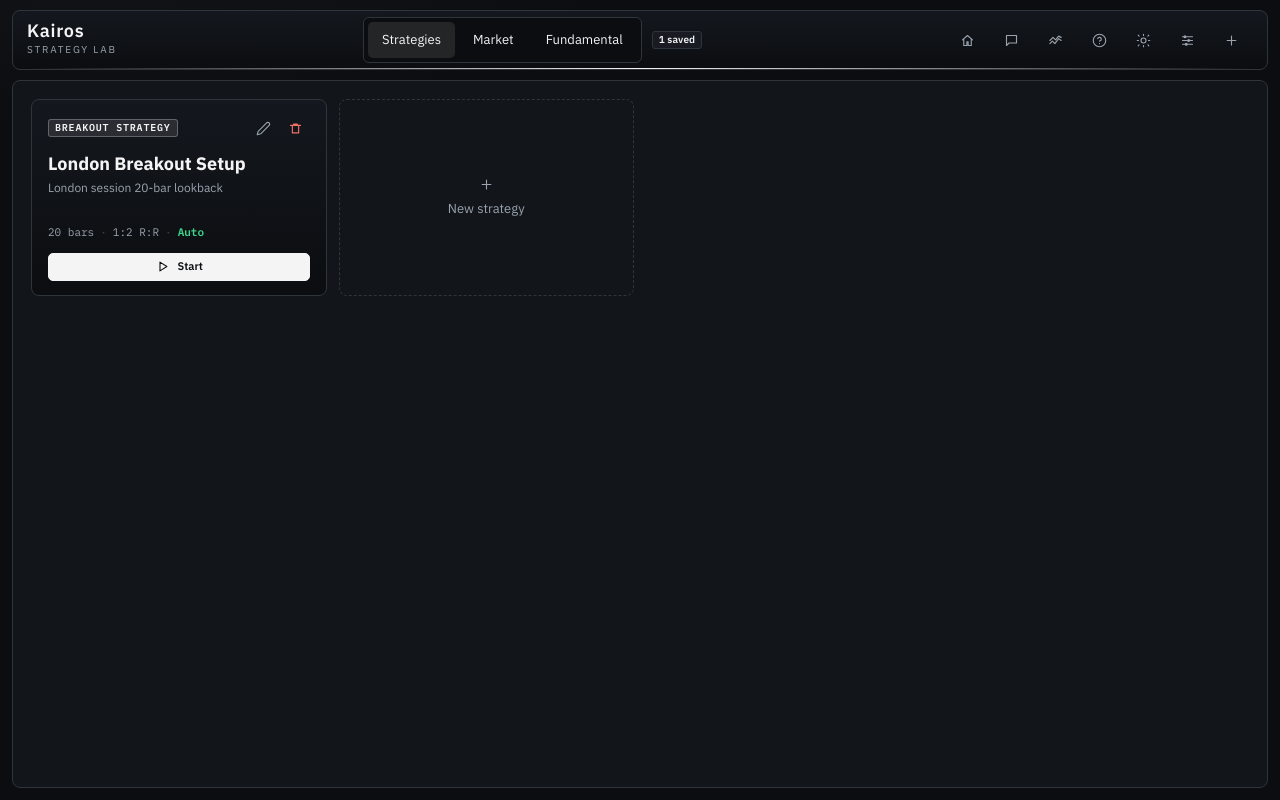
it: Empirical Challenger M4: Panels, Desks, Buttons & Forms Stress Suite › StrategyLibrary: Card Actions, Composer, Delete Confirmation & Search › handles delete strategy card action with confirmation dialog and cancel/confirm branches
Later steps or results of the test are not shown.
// Click Delete IconButton
Click the button named "delete london breakout setup": (296, 128) [282, 114, 310, 142]
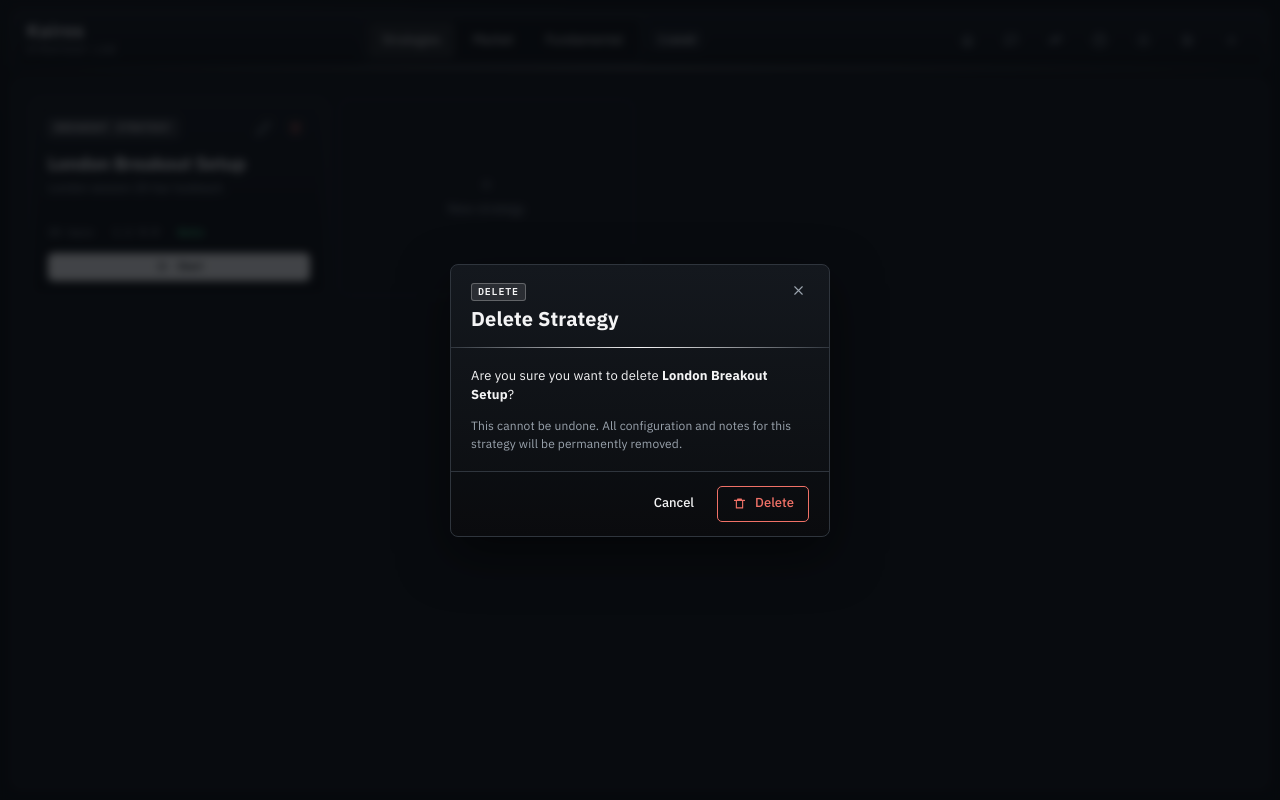
Expected: the heading "Delete Strategy" is shown, [471, 304, 619, 332]
Expected: the text "Are you sure you want to delete London Breakout Setup?" is shown, [471, 366, 809, 404]
Click the button "Cancel": (674, 504) [639, 486, 709, 522]
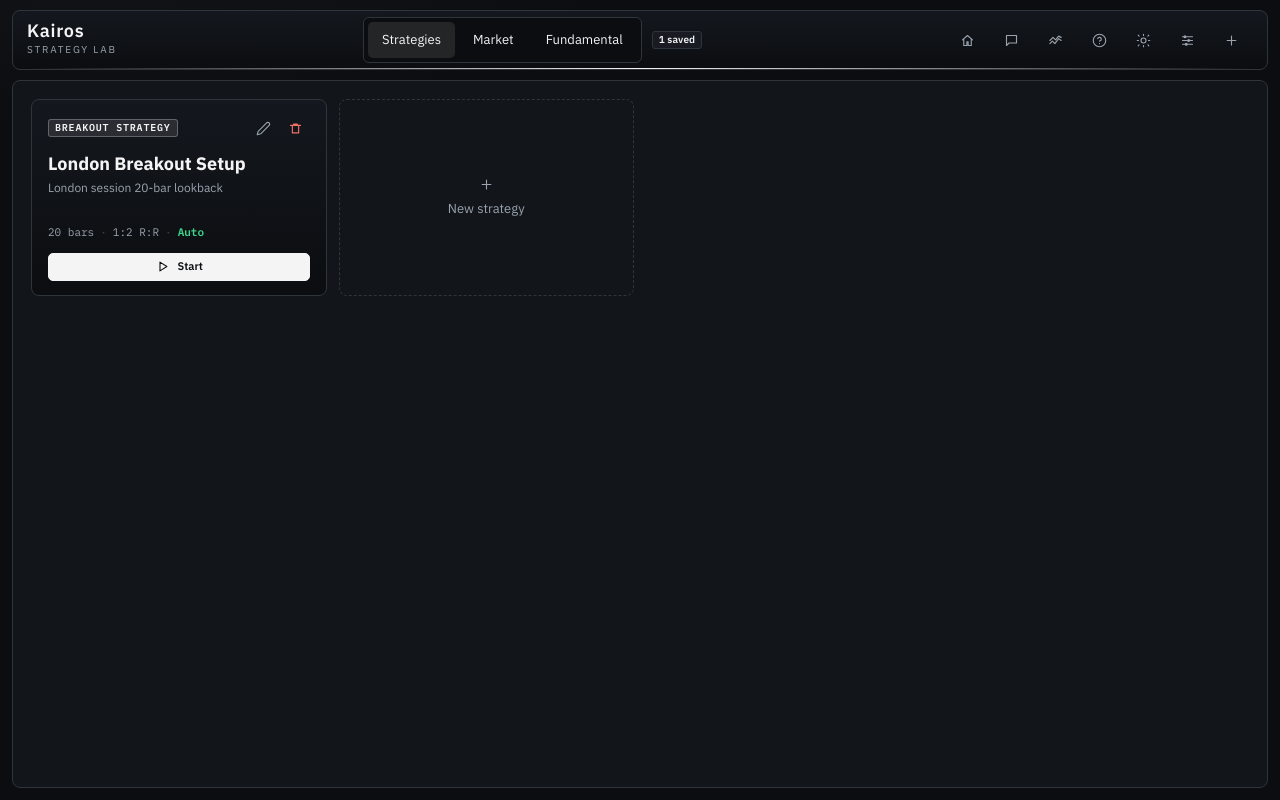
// Branch 2: Click Delete again, this time confirm
Click the button named "delete london breakout setup": (296, 128) [282, 114, 310, 142]
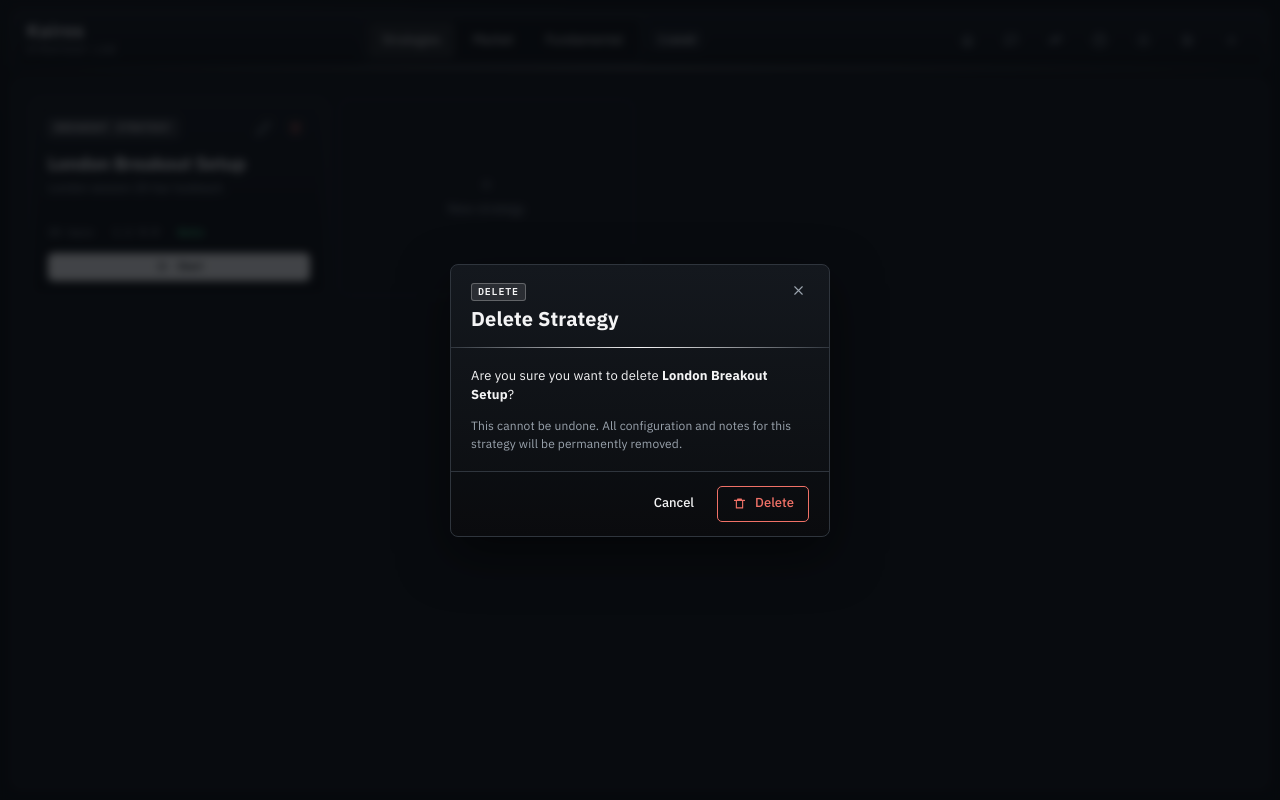
Expected: the button with class "ui-btn-danger" is shown, [717, 486, 809, 522]
